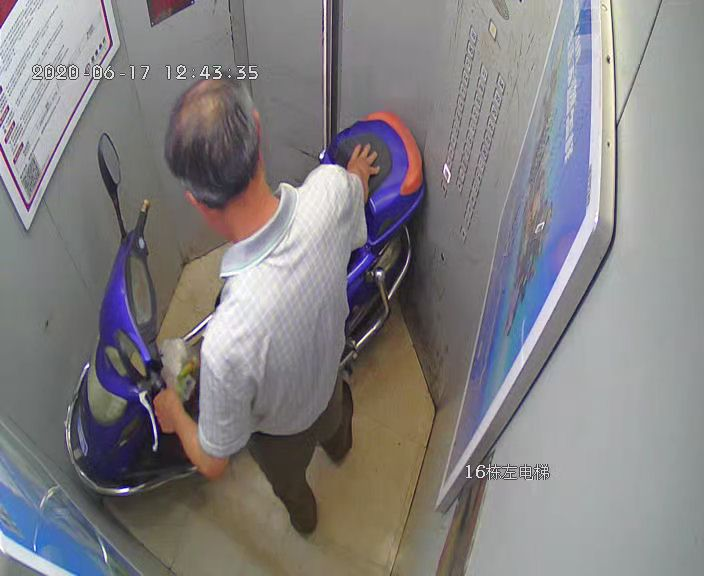Electric-bicycle: (70, 111, 420, 490)
